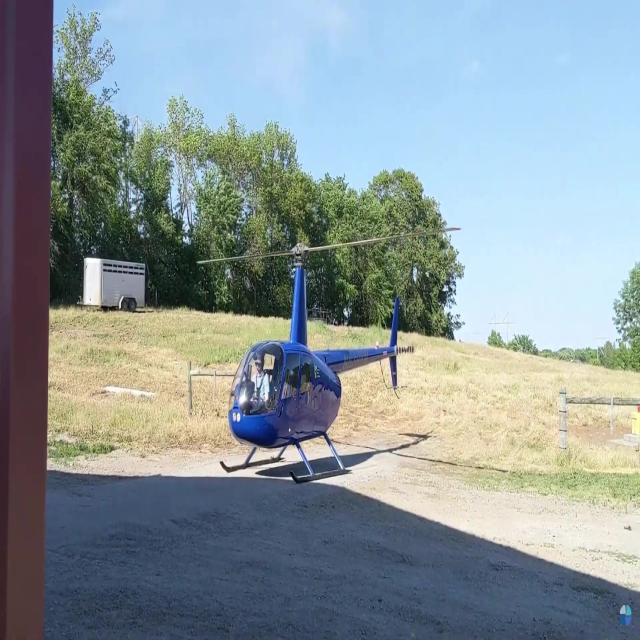CIV_HELO: (219, 240, 401, 485)
